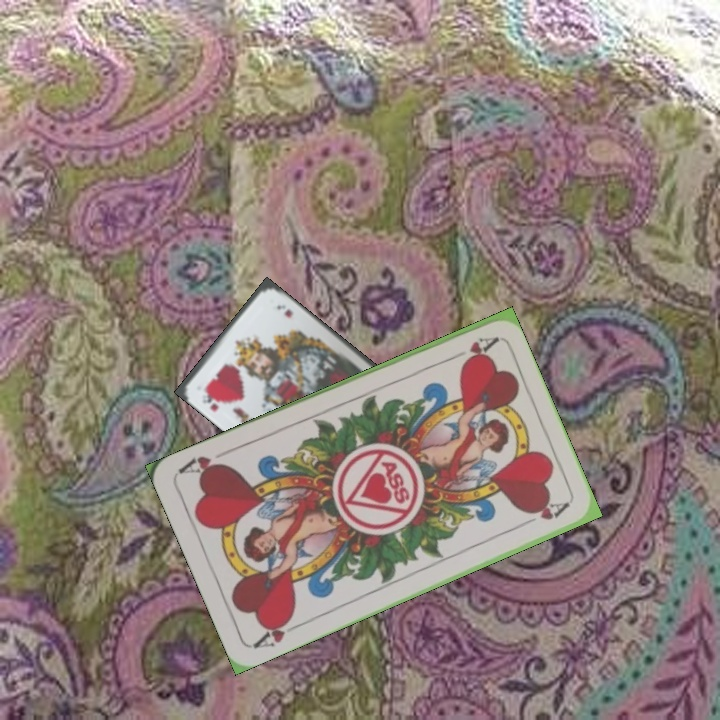HA: (249, 611, 305, 652), (442, 332, 499, 365)
HK: (198, 386, 222, 414)
